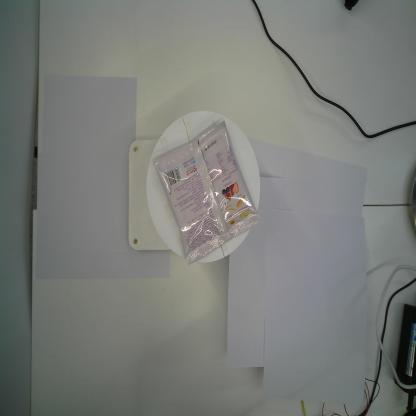Instant Drink: (152, 120, 260, 267)
